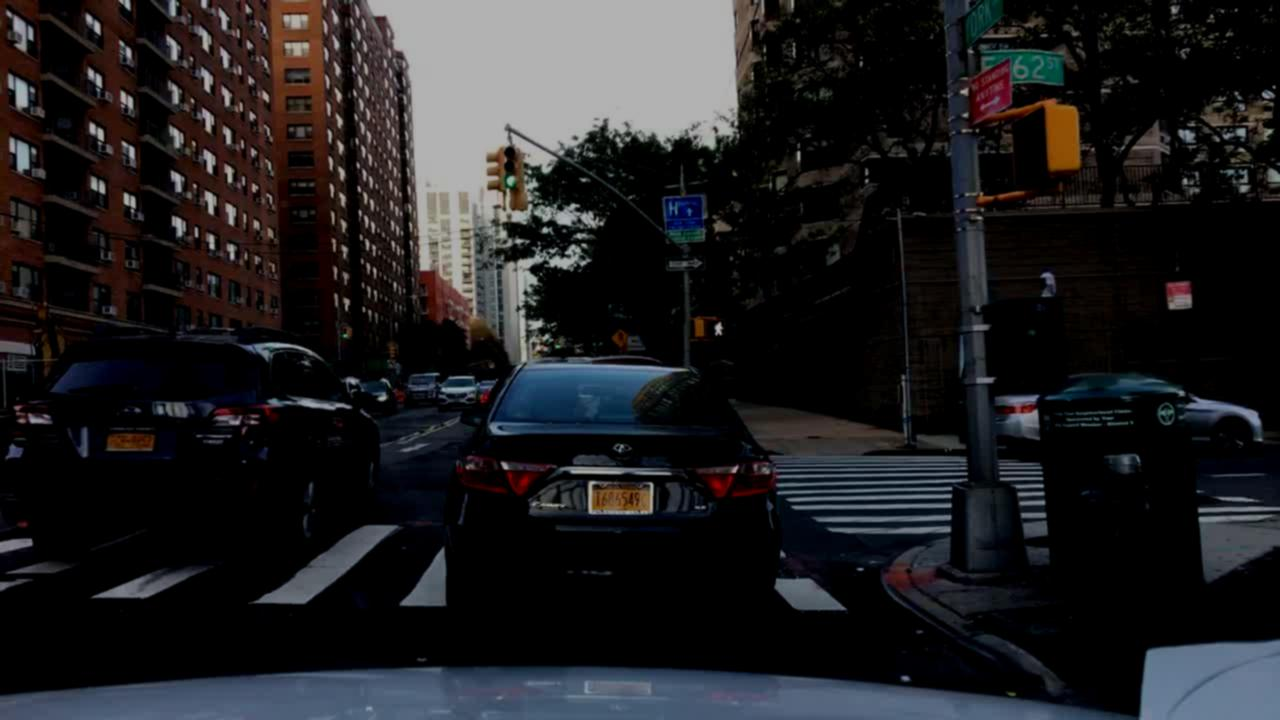Toyota: (606, 437, 645, 465)
subaru: (113, 402, 147, 423)
